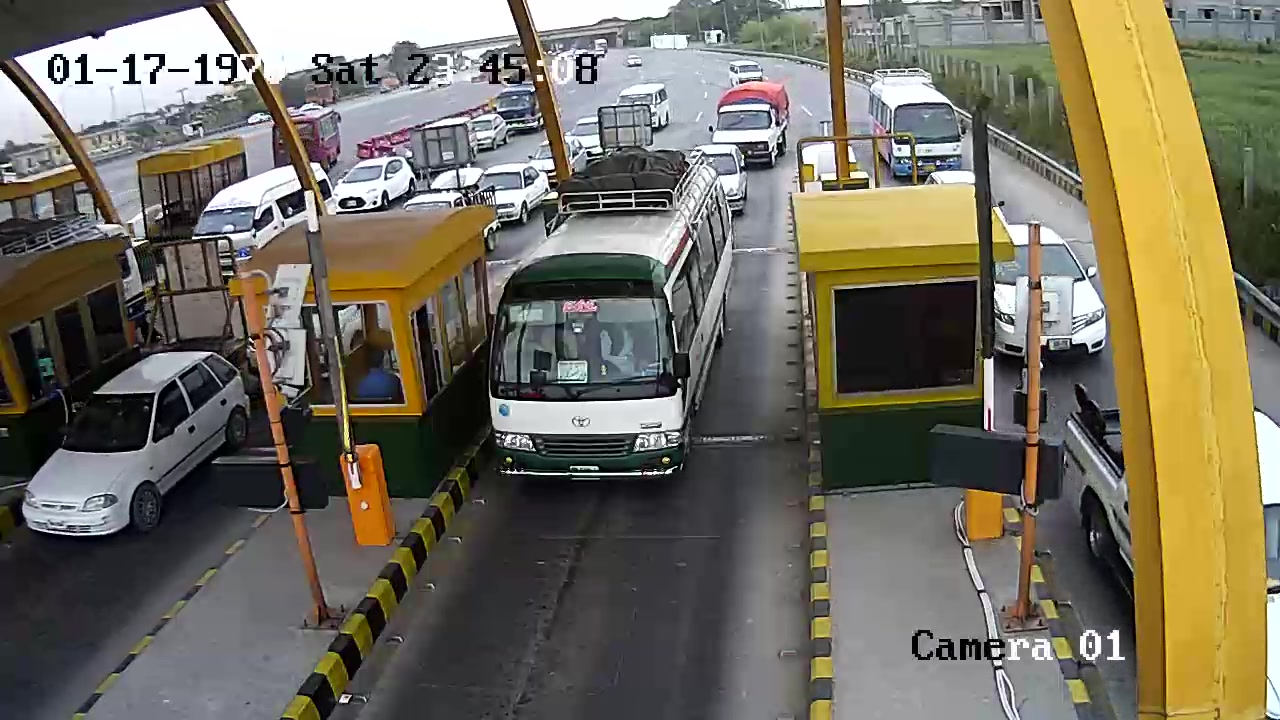F3: (486, 149, 740, 486)
